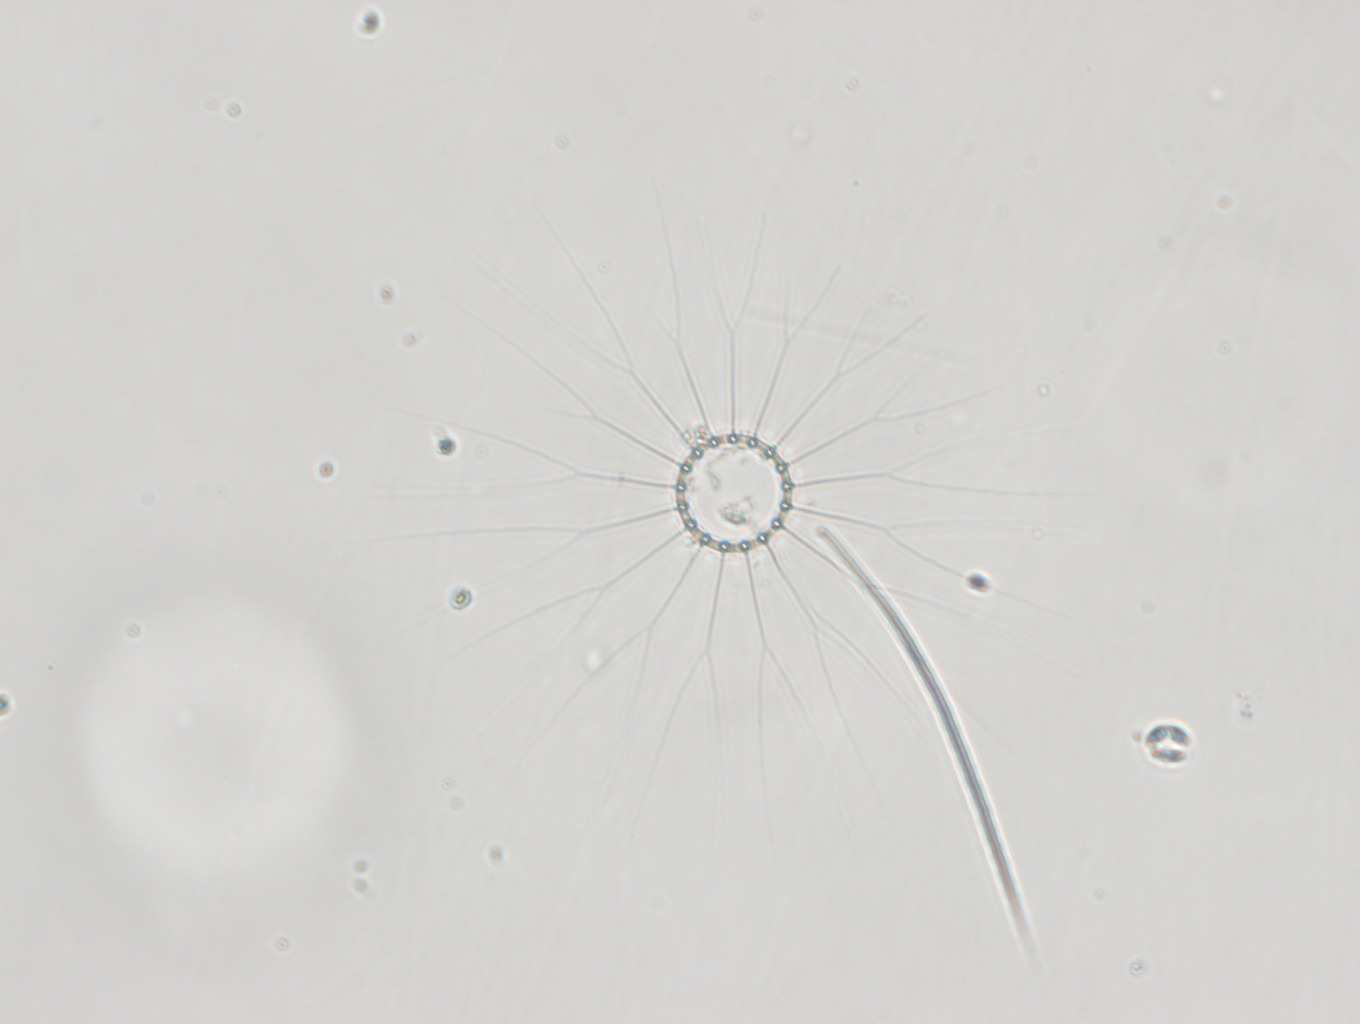bacteriastrum: (380, 180, 1085, 833)
